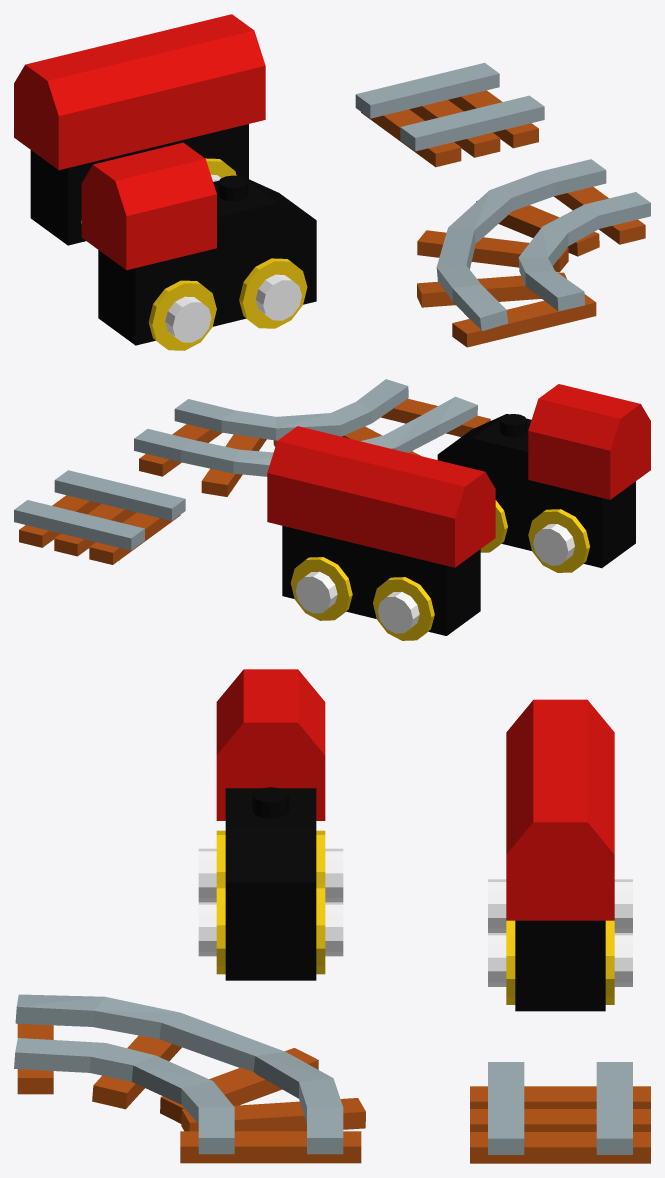
Rendered from Train.obj.
The picture shows the model from 3 angles, top to bottom: view 1: azimuth 30°, elevation 25°; view 2: azimuth 150°, elevation 25°; view 3: azimuth 270°, elevation 25°; orthographic projection. The views are drawn at different scales.
Visible parts, largest first — view 1: polySurface26 polySurface15 polySurface8, polySurface18, polySurface9, polySurface12; view 2: polySurface18, polySurface26 polySurface15 polySurface8, polySurface9, polySurface12; view 3: polySurface26 polySurface15 polySurface8, polySurface18, polySurface9, polySurface12.
Boxes of the visible parts, x1,y1,x2,y2 form: polySurface26 polySurface15 polySurface8: (81,142,316,350); polySurface18: (14,14,265,245); polySurface9: (417,159,650,347); polySurface12: (355,62,544,167); polySurface18: (267,426,495,640); polySurface26 polySurface15 polySurface8: (437,384,650,572); polySurface9: (134,379,490,496); polySurface12: (14,470,185,564); polySurface26 polySurface15 polySurface8: (198,669,343,980); polySurface18: (488,699,632,1011); polySurface9: (14,994,365,1163); polySurface12: (470,1062,650,1163).
Bounding box in the file's own units: 0.41 × 0.13 × 0.352.
